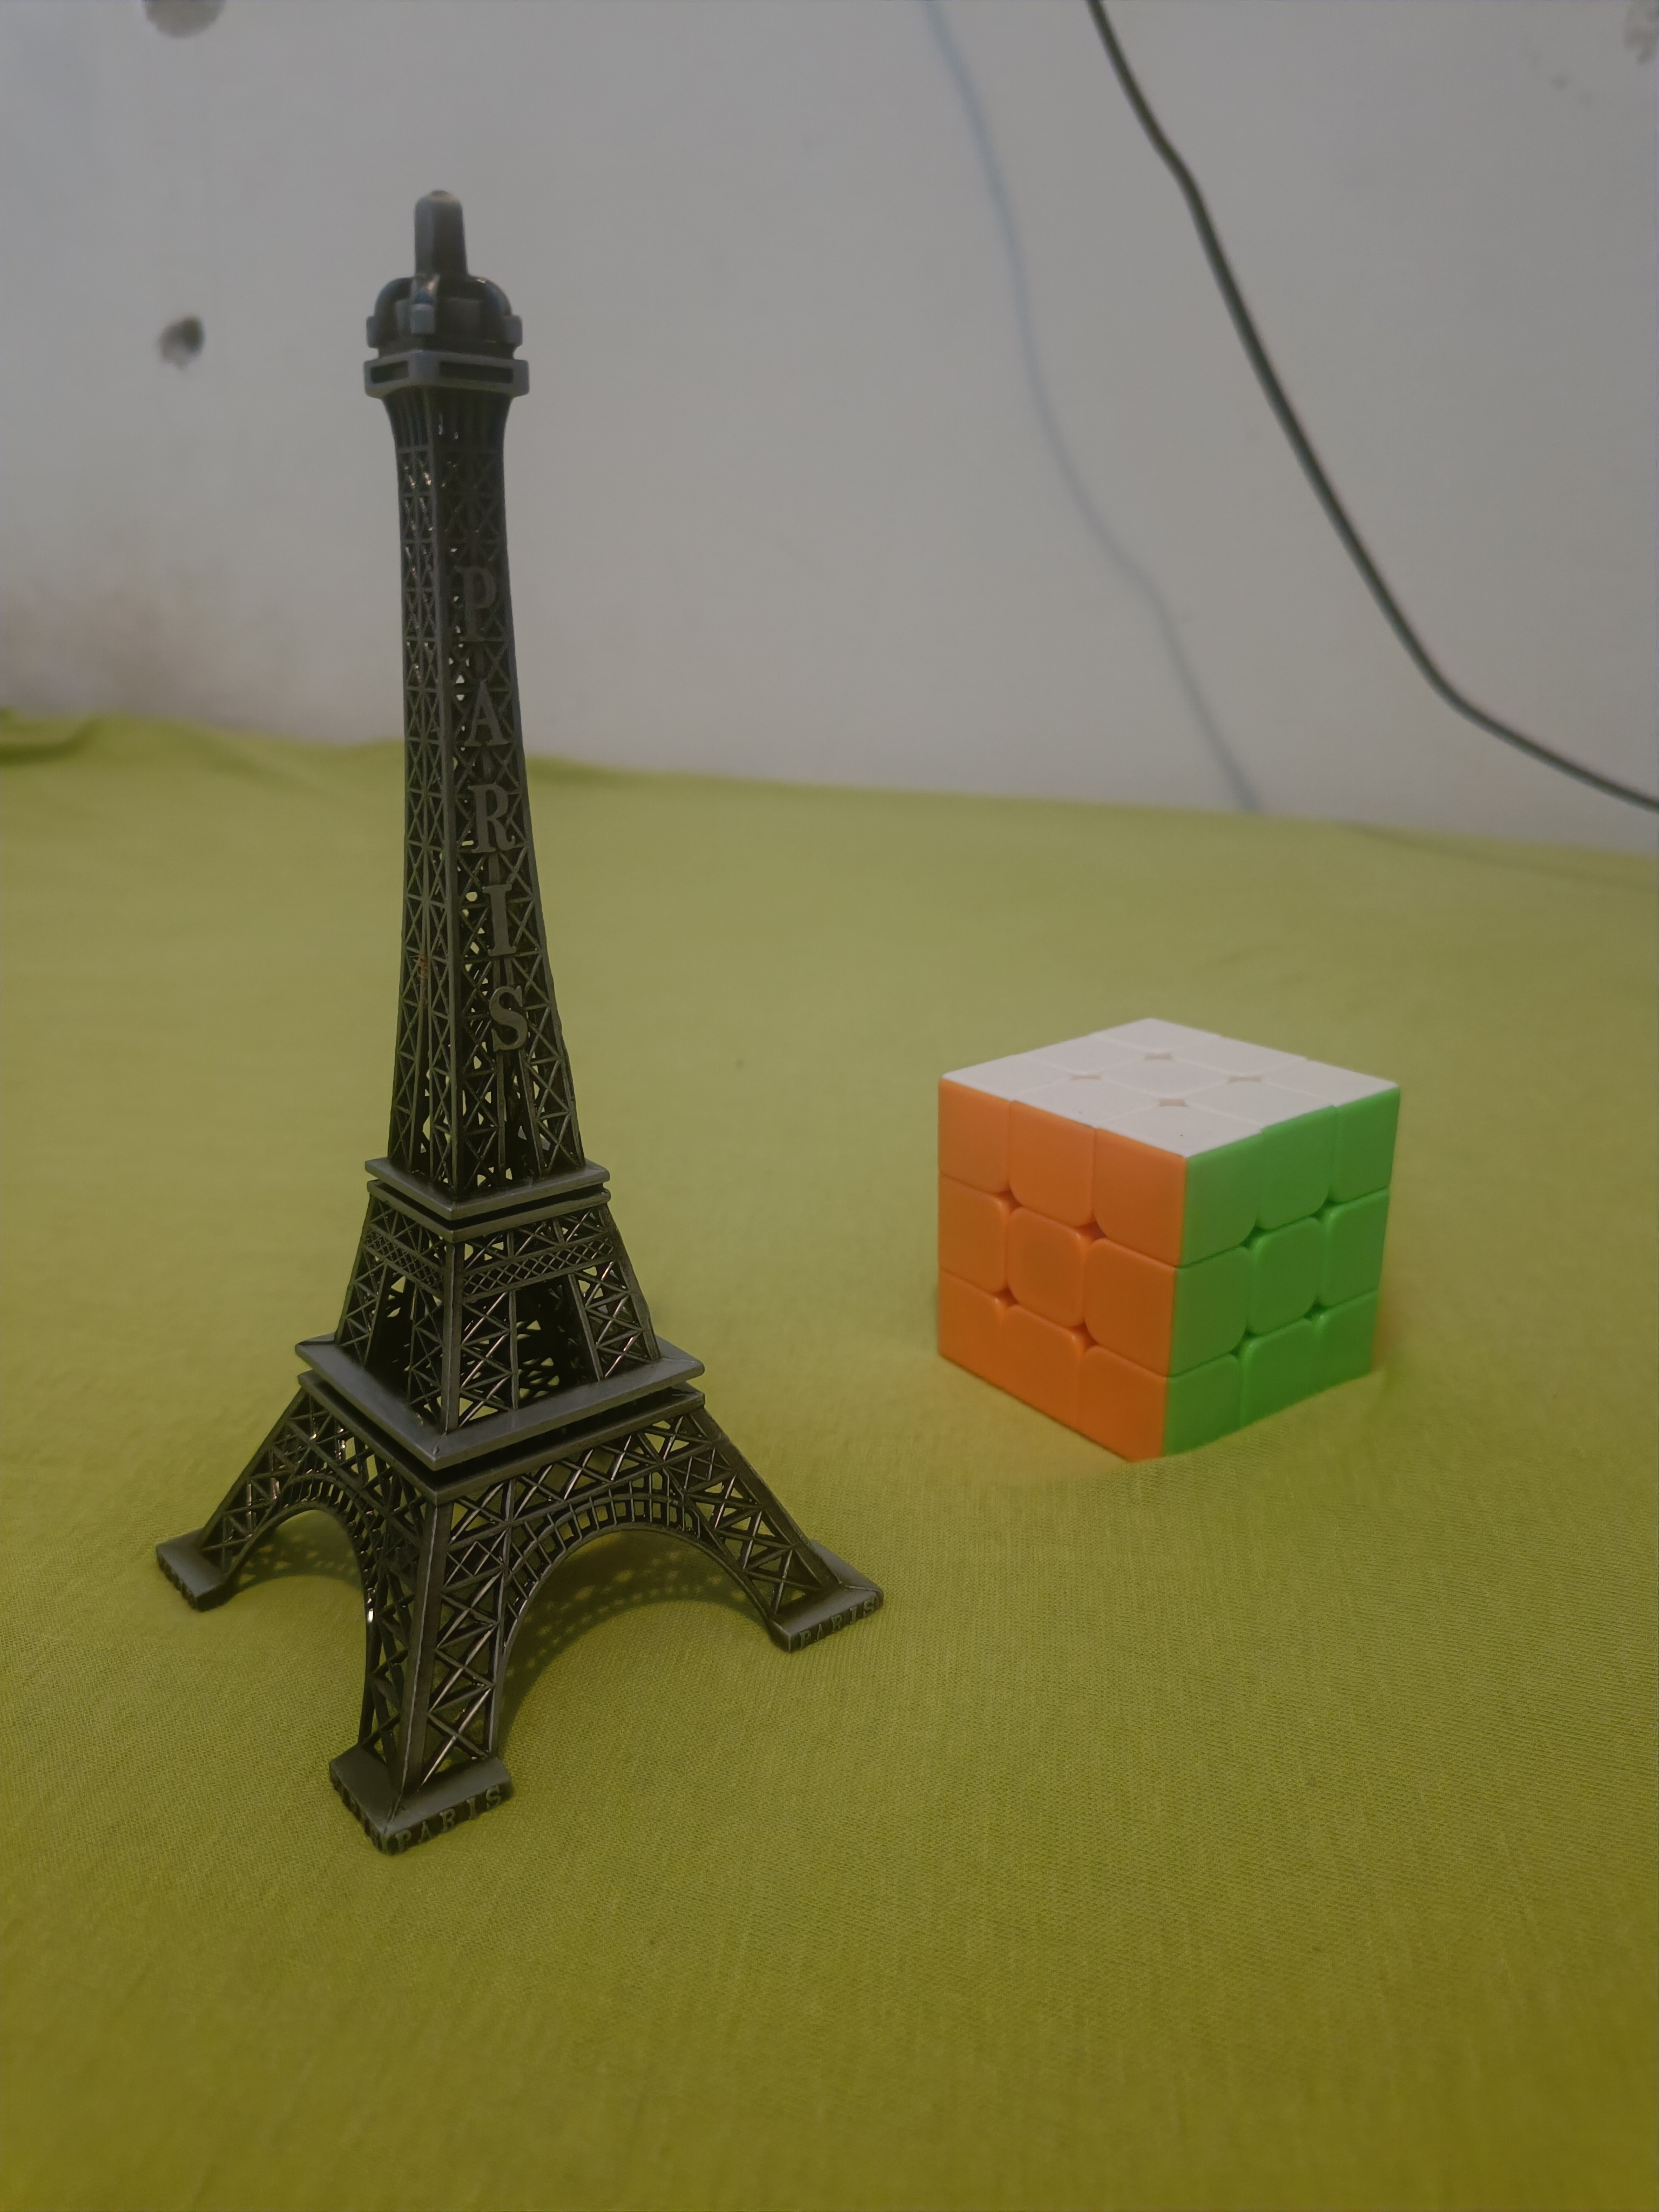Eiffel Tower: (166, 146, 895, 1869)
Rubiks Cube: (921, 979, 1411, 1478)
